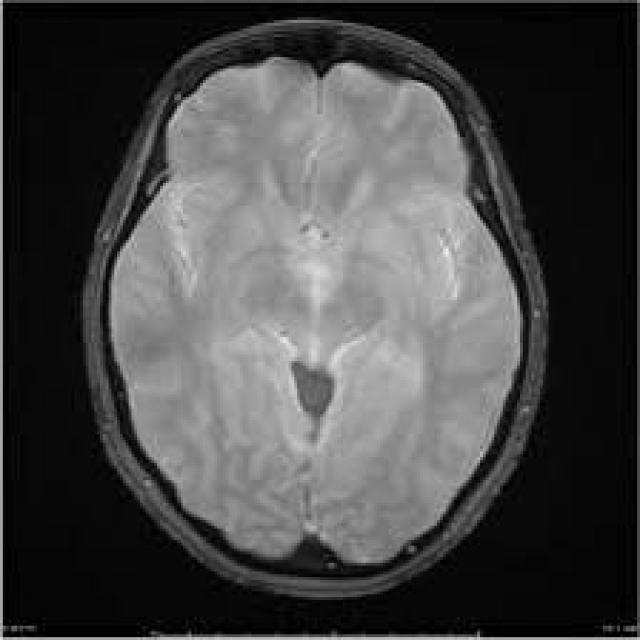no_tumor: (70, 19, 558, 607)
